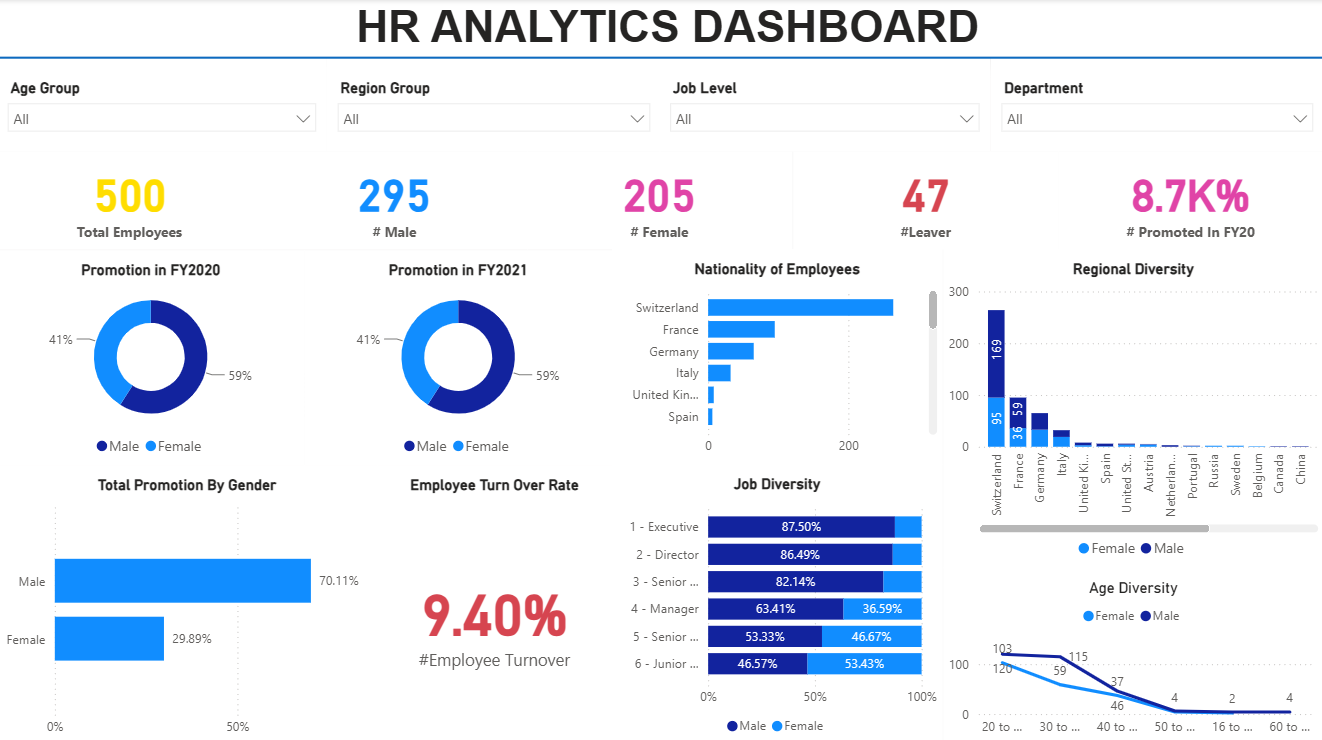

The page's visual inventory and layout, read from the dashboard file:
{"tool":"powerbi","page":{"name":"Dashboard 3","canvas":[1280,720],"ordinal":2},"visuals":[{"type":"textbox","box":[0,0,1280,57],"z":0},{"type":"card","fields":{"Values":["Pharma.# male"]},"box":[256,147,256,94],"z":0,"group":"g2"},{"type":"card","fields":{"Values":["CountNonNull(Pharma.Employee ID)"]},"box":[0,147,256,94],"z":6,"group":"g1"},{"type":"slicer","fields":{"Values":["Pharma.Last Department in FY20"]},"box":[959,57,321,90],"z":1000},{"type":"group","id":"g1","title":"Group 1","box":[0,147,256,94],"z":1000,"group":"g2"},{"type":"slicer","fields":{"Values":["Pharma.Job Level after FY20 promotions"]},"box":[640,57,319,90],"z":2000},{"type":"card","fields":{"Values":["Pharma.# Female"]},"box":[512,147,256,94],"z":2000,"group":"g2"},{"type":"slicer","fields":{"Values":["Pharma.Age group"]},"box":[0,57,318,90],"z":3000},{"type":"card","fields":{"Values":["Pharma.#Leaver"]},"box":[768,147,256,94],"z":3000,"group":"g2"},{"type":"slicer","fields":{"Values":["Pharma.Broad region group: nationality 1"]},"box":[318,57,322,90],"z":4000},{"type":"card","fields":{"Values":["Pharma.# Promoted FY20"]},"box":[1024,147,256,94],"z":4000,"group":"g2"},{"type":"shape","box":[0,45,1280,24],"z":5000},{"type":"group","id":"g2","title":"Group 2","box":[0,147,1280,94],"z":6000},{"type":"donutChart","title":"Promotion in FY2020","fields":{"Category":["Pharma.Gender"],"Y":["CountNonNull(Pharma.Promotion in FY20?)"]},"box":[0,242,297,208],"z":7000},{"type":"donutChart","title":"Promotion in FY2021","fields":{"Category":["Pharma.Gender"],"Y":["CountNonNull(Pharma.Nationality 1)"]},"box":[297,242,297,208],"z":8000},{"type":"barChart","title":"Total Promotion By Gender","fields":{"Category":["Pharma.Gender"],"Y":["Pharma.# Promoted In FY20"]},"box":[0,450,367,270],"z":9000},{"type":"card","title":"Employee Turn Over Rate","fields":{"Values":["Pharma.#Employee Turnover"]},"box":[367,450,227,270],"z":10000},{"type":"barChart","title":"Nationality of Employees","fields":{"Y":["CountNonNull(Pharma.Employee ID)"],"Category":["Pharma.Nationality 1"]},"box":[594,241,319,208],"z":11000},{"type":"columnChart","title":"Regional Diversity","fields":{"Category":["Pharma.Nationality 1"],"Y":["CountNonNull(Pharma.Gender)"],"Series":["Pharma.Gender"]},"box":[913,241,367,308],"z":12000},{"type":"hundredPercentStackedBarChart","title":"Job Diversity","fields":{"Category":["Pharma.Job Level after FY20 promotions"],"Series":["Pharma.Gender"],"Y":["Divide(CountNonNull(Pharma.Gender), ScopedEval(CountNonNull(Pharma.Gender), []))"]},"box":[594,449,319,271],"z":13000},{"type":"lineChart","title":"Age Diversity","fields":{"Series":["Pharma.Gender"],"Category":["Pharma.Age group"],"Y":["CountNonNull(Pharma.Employee ID)"]},"box":[913,549,367,171],"z":14000}]}

Visuals, with their boxes in screenshot pixels (x1, y1, x2, y2), scaled from the page's 1280x720 canvas onto the 1322x740 screenshot:
textbox: BBox(0, 0, 1321, 59)
card - Pharma.# male: BBox(264, 151, 529, 248)
card - CountNonNull(Pharma.Employee ID): BBox(0, 151, 264, 248)
slicer - Pharma.Last Department in FY20: BBox(990, 59, 1321, 151)
"Group 1" group: BBox(0, 151, 264, 248)
slicer - Pharma.Job Level after FY20 promotions: BBox(661, 59, 990, 151)
card - Pharma.# Female: BBox(529, 151, 793, 248)
slicer - Pharma.Age group: BBox(0, 59, 328, 151)
card - Pharma.#Leaver: BBox(793, 151, 1058, 248)
slicer - Pharma.Broad region group: nationality 1: BBox(328, 59, 661, 151)
card - Pharma.# Promoted FY20: BBox(1058, 151, 1321, 248)
shape: BBox(0, 46, 1321, 71)
"Group 2" group: BBox(0, 151, 1321, 248)
"Promotion in FY2020" donutChart: BBox(0, 249, 307, 462)
"Promotion in FY2021" donutChart: BBox(307, 249, 613, 462)
"Total Promotion By Gender" barChart: BBox(0, 462, 379, 739)
"Employee Turn Over Rate" card: BBox(379, 462, 613, 739)
"Nationality of Employees" barChart: BBox(613, 248, 943, 461)
"Regional Diversity" columnChart: BBox(943, 248, 1321, 564)
"Job Diversity" hundredPercentStackedBarChart: BBox(613, 461, 943, 739)
"Age Diversity" lineChart: BBox(943, 564, 1321, 739)
